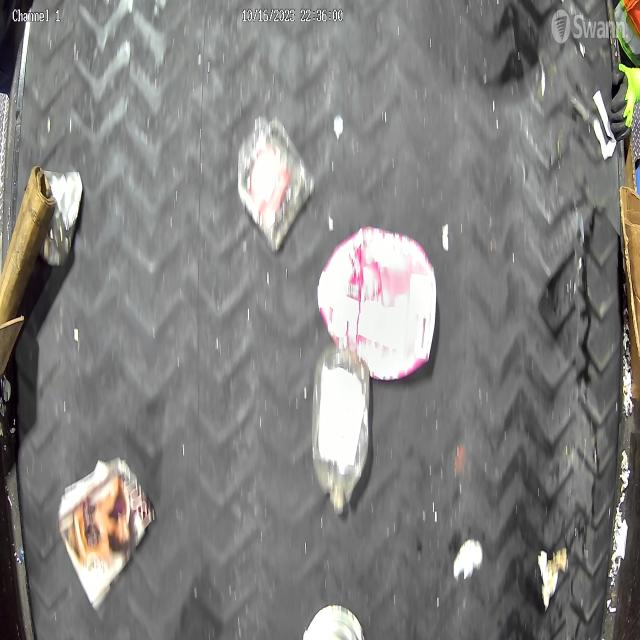non_white_jug: (316, 226, 438, 379)
plastic_bottle: (312, 342, 370, 508)
